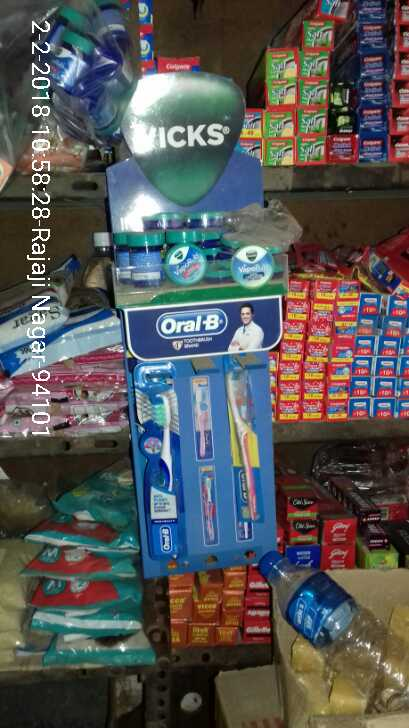pharmacy: (133, 360, 189, 558), (226, 351, 269, 524), (125, 230, 167, 286)
